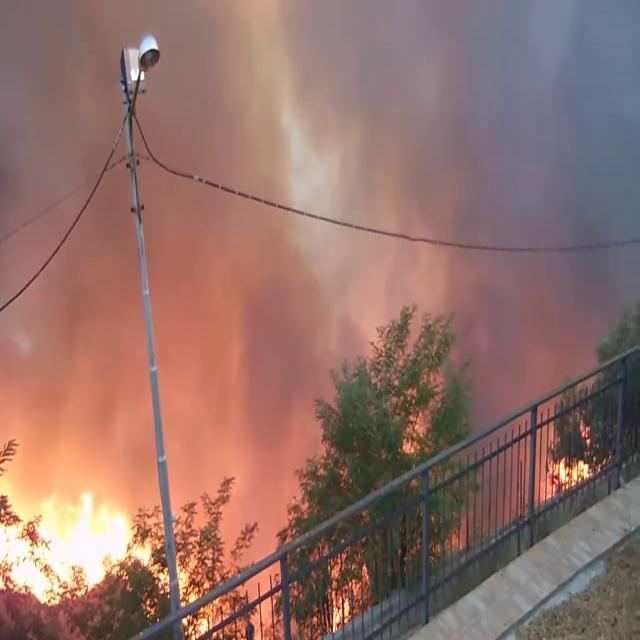Fire: (0, 472, 150, 612), (544, 444, 596, 493)
Smoke: (3, 1, 634, 514)
